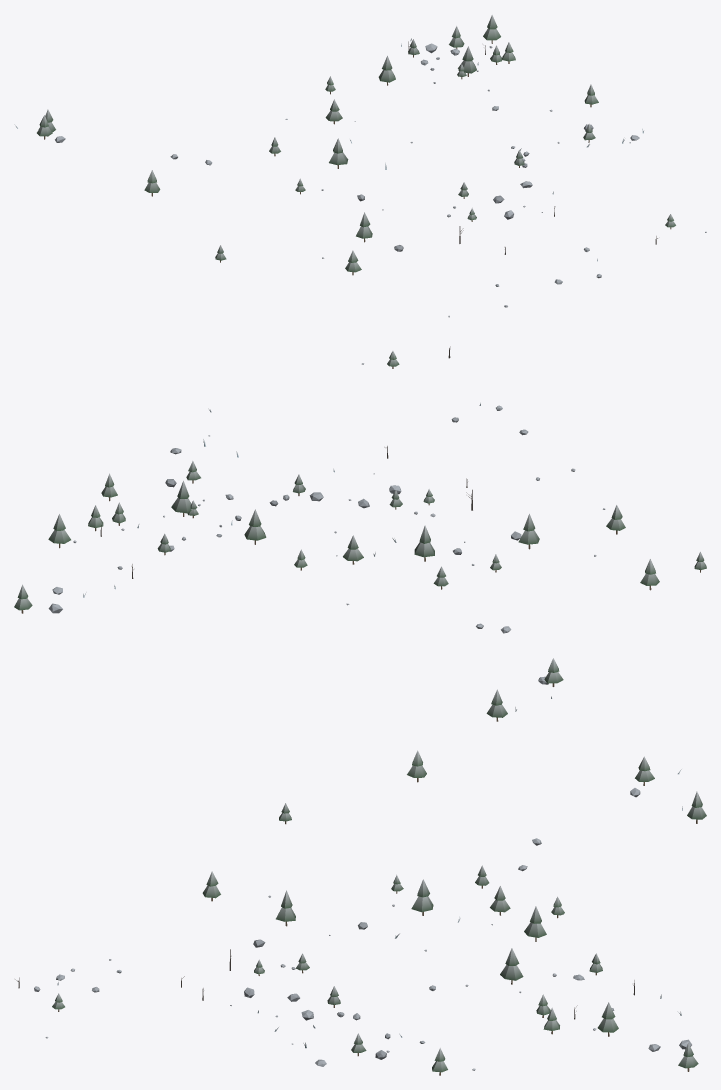
File: frost_land_scatter_c19_09_lod1.glb
3 renders of one model, top to bottom at view 1: azimuth 30°, elevation 25°; view 2: azimuth 150°, elevation 25°; view 3: azimuth 270°, elevation 25°, orthographic. The views are drawn at different scales.
Visible parts, largest first — view 1: frost_land_scatter_c19_09_lod1; view 2: frost_land_scatter_c19_09_lod1; view 3: frost_land_scatter_c19_09_lod1.
Part boxes in pixels (<box>): frost_land_scatter_c19_09_lod1: <box>14,15,706,317</box>; frost_land_scatter_c19_09_lod1: <box>14,346,706,721</box>; frost_land_scatter_c19_09_lod1: <box>15,750,706,1075</box>.
Bounding box in the file's own units: 247 × 50.28 × 257.
